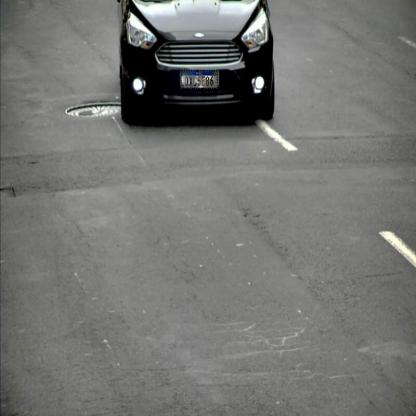PlacaM: (181, 70, 218, 89)
